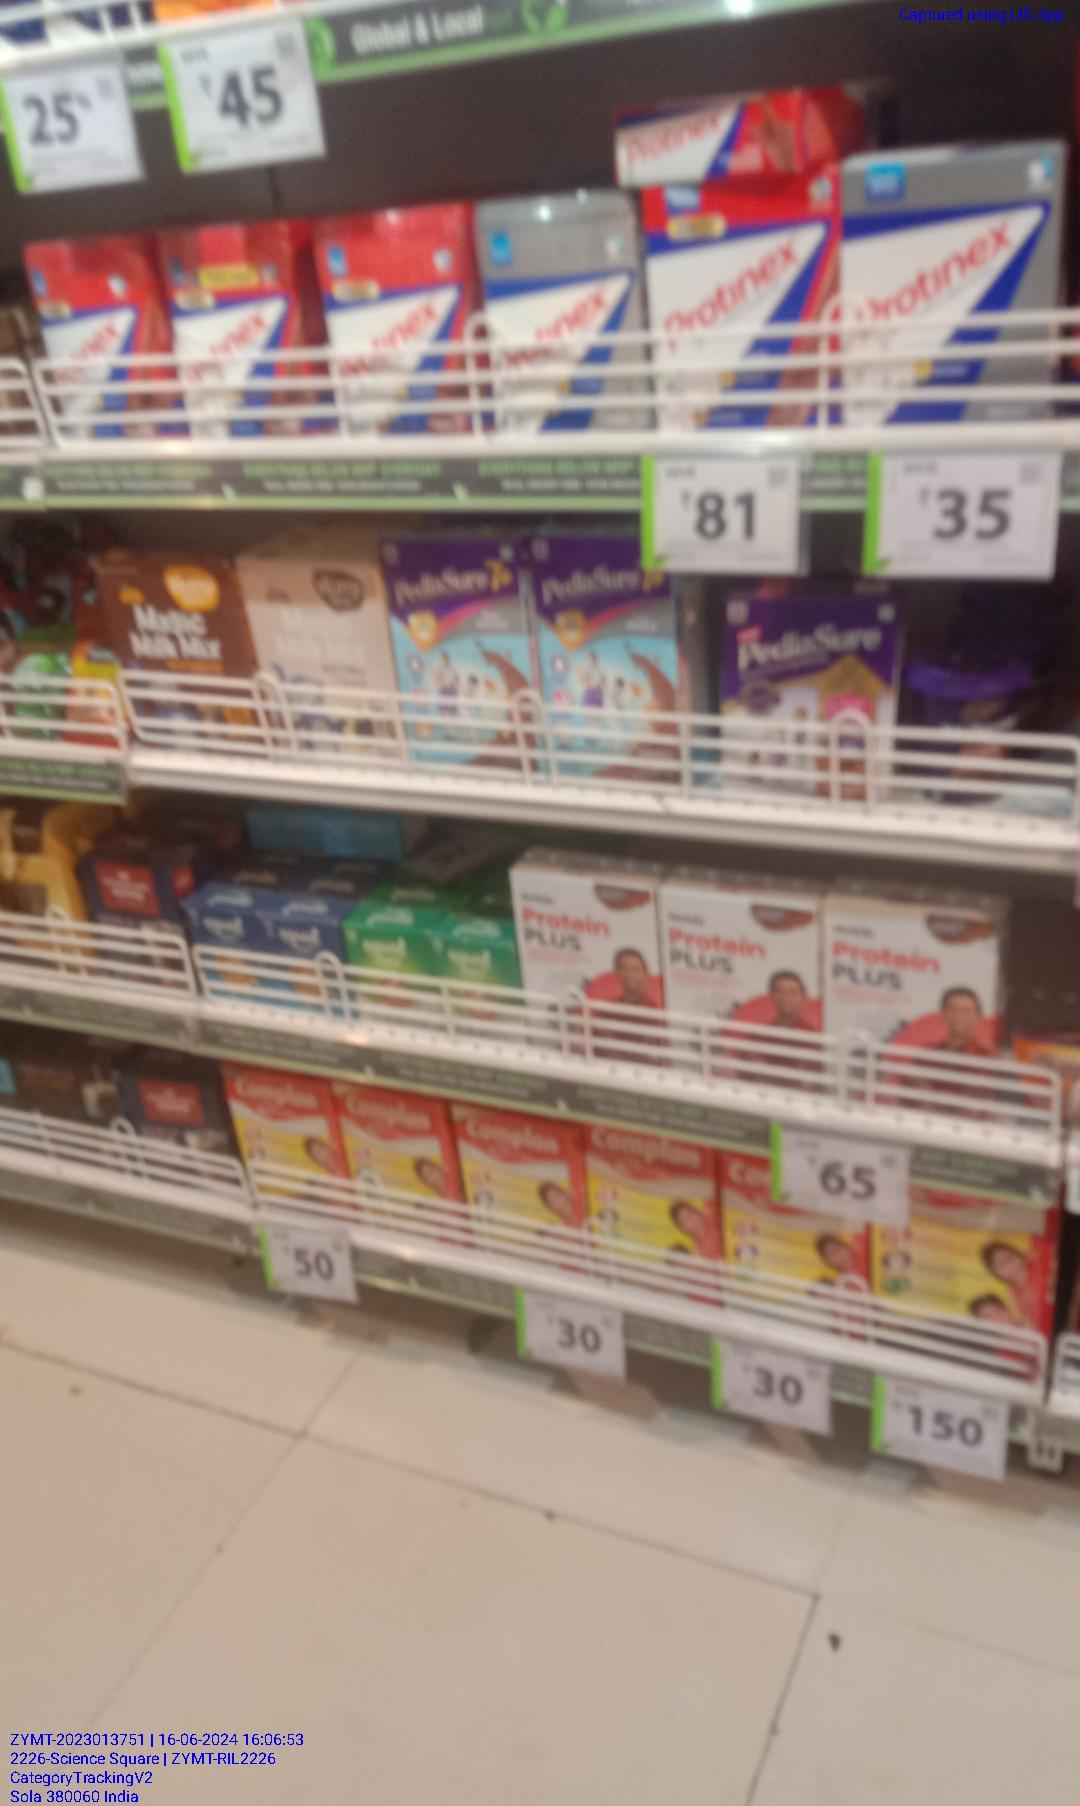PEDIASURE_7_PLUS_CHOCOLATE_400_G_PACK: (531, 537, 680, 788), (397, 537, 527, 762)
PROTINEX_ORIGINAL_400_G_JAR: (485, 188, 647, 434)
